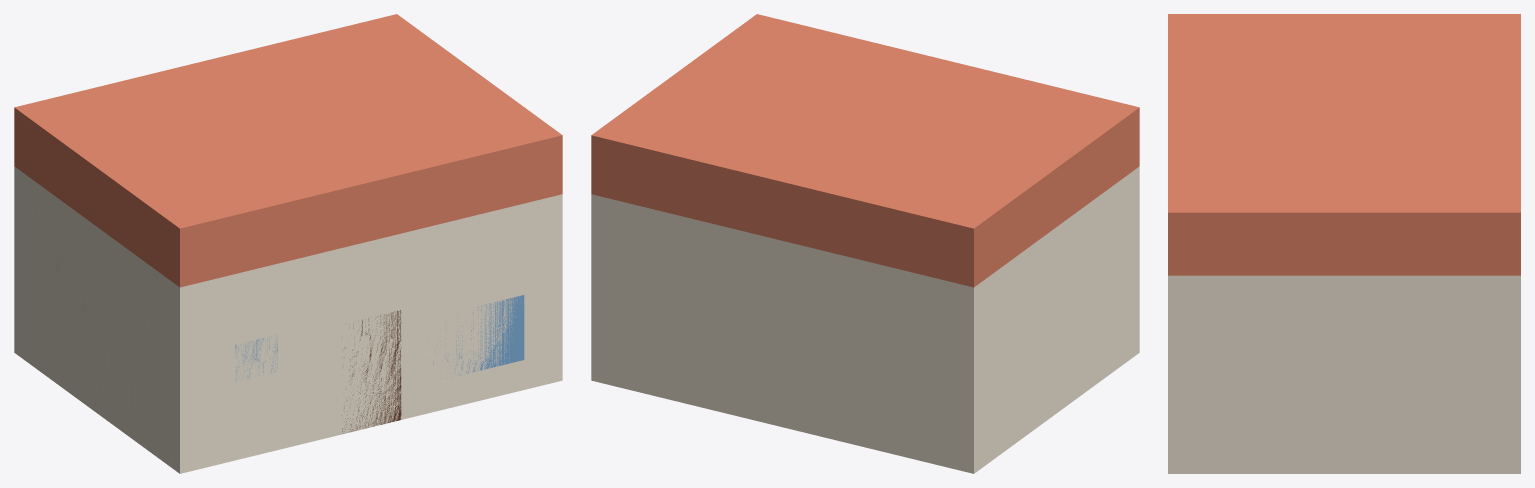
File: gedung_warteg.fbx
3 views of the same model, side by side, from view 1: azimuth 30°, elevation 25°; view 2: azimuth 150°, elevation 25°; view 3: azimuth 270°, elevation 25° (orthographic). The views are drawn at different scales.
Visible parts, largest first — view 1: gedung_warteg; view 2: gedung_warteg; view 3: gedung_warteg.
Boxes of the visible parts, bbox=[...] form: gedung_warteg: bbox=[14, 14, 562, 473]; gedung_warteg: bbox=[591, 14, 1139, 473]; gedung_warteg: bbox=[1168, 14, 1520, 473].
Size of the model in its own units: 800 by 490 by 600.
1 material, 1 textured.
